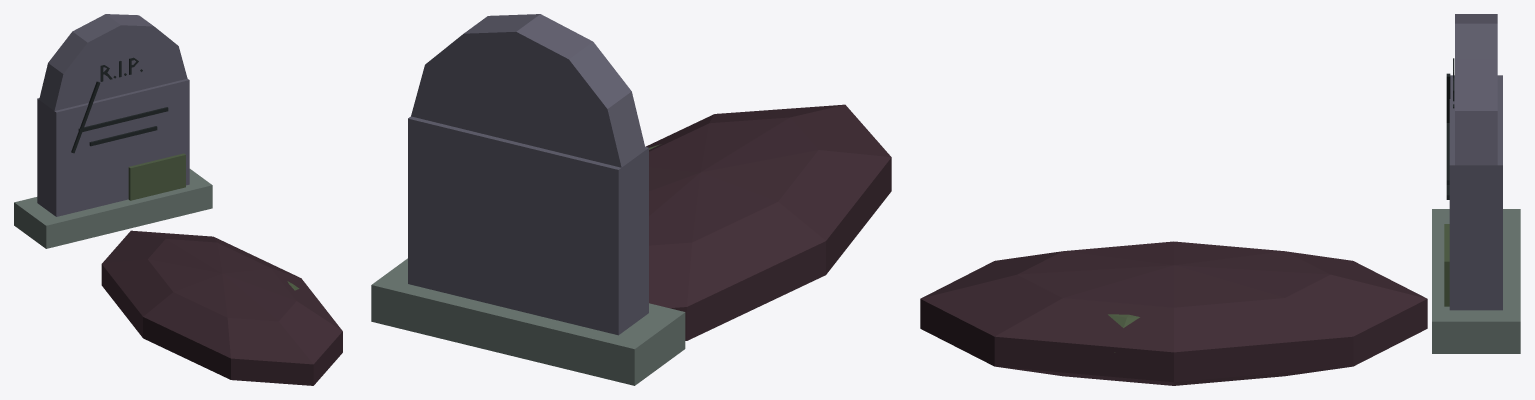
The model's file is mormant_1.glb.
The picture shows the model from 3 angles, left to right: view 1: azimuth 30°, elevation 25°; view 2: azimuth 150°, elevation 25°; view 3: azimuth 270°, elevation 25°; orthographic projection. The views are drawn at different scales.
Visible parts, largest first — view 1: Mormant; view 2: Mormant; view 3: Mormant.
Boxes of the visible parts, x1=… form: Mormant: x1=14, y1=14, x2=342, y2=385; Mormant: x1=371, y1=14, x2=891, y2=385; Mormant: x1=920, y1=14, x2=1520, y2=385.
Bounding box in the file's own units: 0.75 × 1.05 × 1.69.
